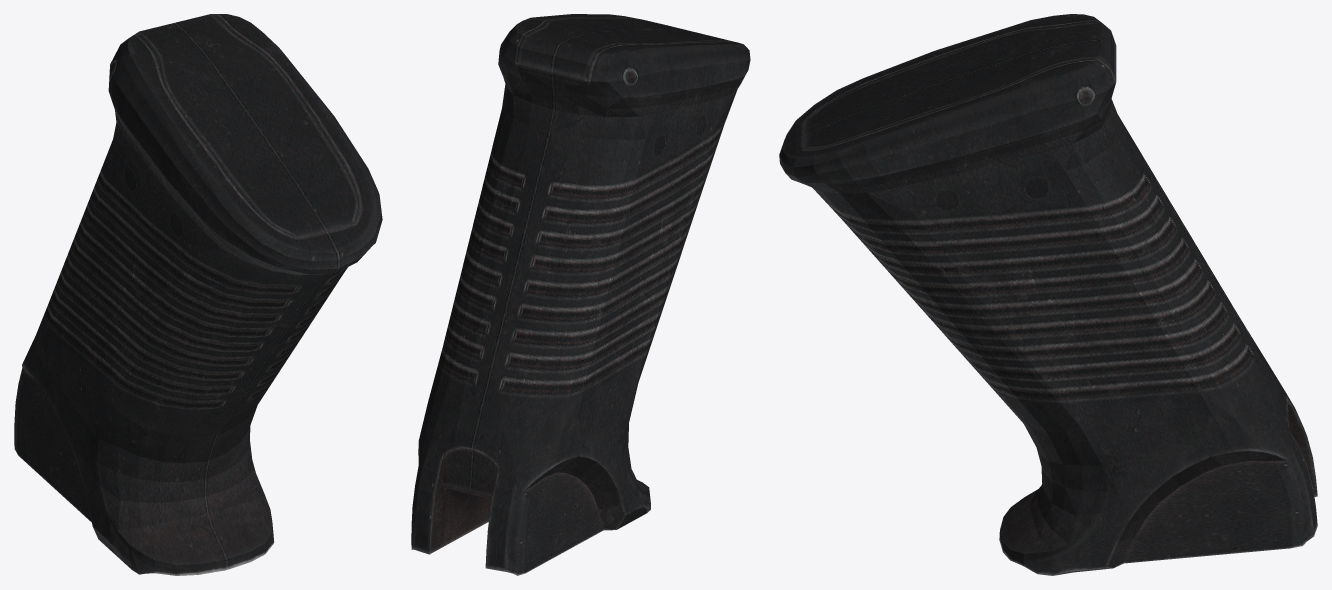
The picture shows the model from 3 angles, left to right: view 1: azimuth 30°, elevation 25°; view 2: azimuth 150°, elevation 25°; view 3: azimuth 270°, elevation 25°; orthographic projection. The views are drawn at different scales.
Parts seen in each view (by area): view 1: TW_5b099b965acfc400186331e6_PZ_Import; view 2: TW_5b099b965acfc400186331e6_PZ_Import; view 3: TW_5b099b965acfc400186331e6_PZ_Import.
Boxes of the visible parts, left/top/right/bottom form: TW_5b099b965acfc400186331e6_PZ_Import: left=14, top=14, right=382, bottom=575; TW_5b099b965acfc400186331e6_PZ_Import: left=411, top=14, right=750, bottom=575; TW_5b099b965acfc400186331e6_PZ_Import: left=779, top=14, right=1317, bottom=575.
Bounding box in the file's own units: 0.0206 × 0.0585 × 0.0603.
Materials: 1 (1 with a texture image).
